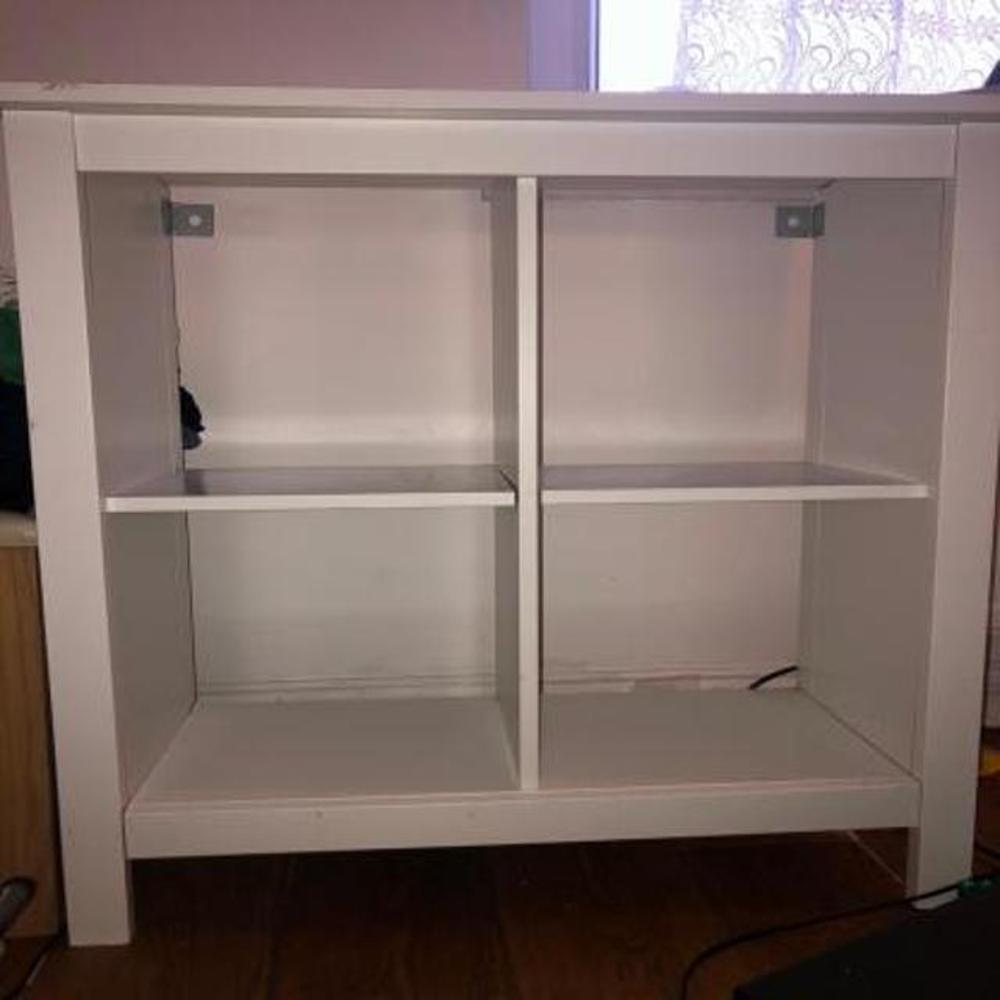lamp: (1, 109, 999, 954)
